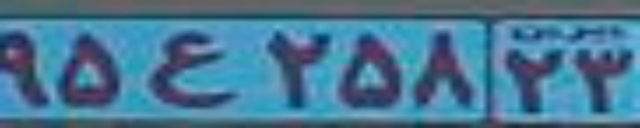2: (262, 31, 328, 110), (501, 46, 563, 114)
3: (571, 47, 630, 112)
5: (54, 34, 124, 107), (337, 32, 403, 109)
8: (411, 29, 473, 108)
9: (2, 31, 50, 109)
ain: (142, 30, 236, 109)
